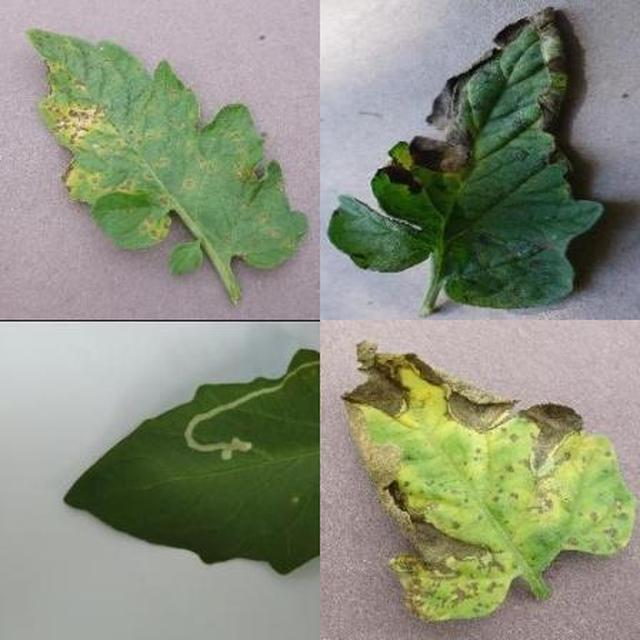Septoria Leaf: (240, 214, 640, 640)
